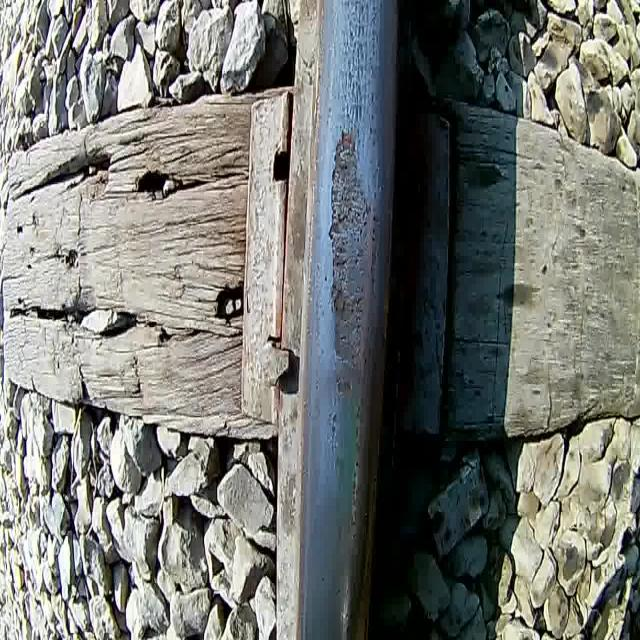Squats: (322, 120, 376, 400)
